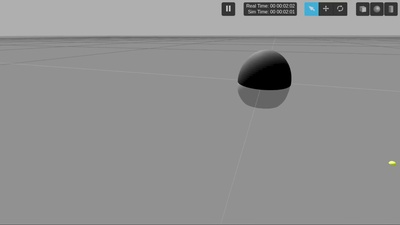mira_robot: (237, 50, 292, 109)
